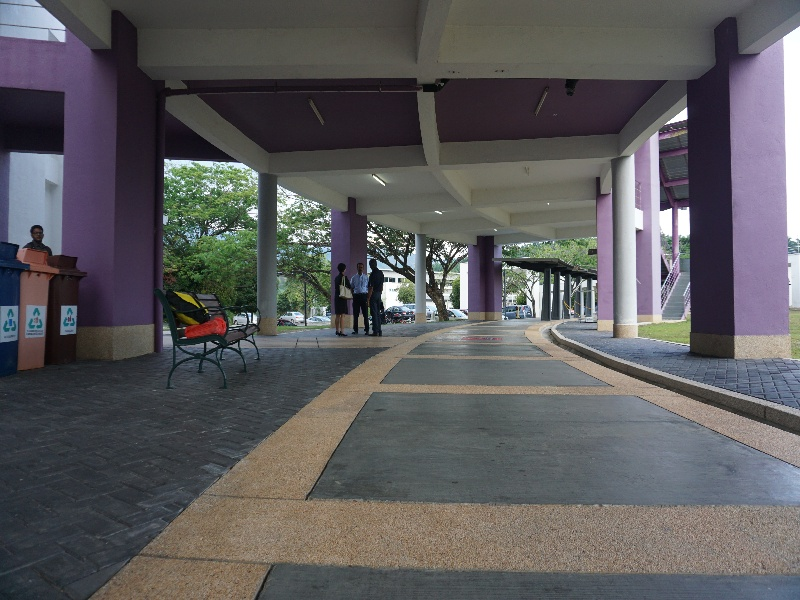Block D Pillar 2: (7, 4, 800, 491)
pillar: (684, 25, 800, 367), (52, 30, 170, 359), (462, 226, 522, 337)
